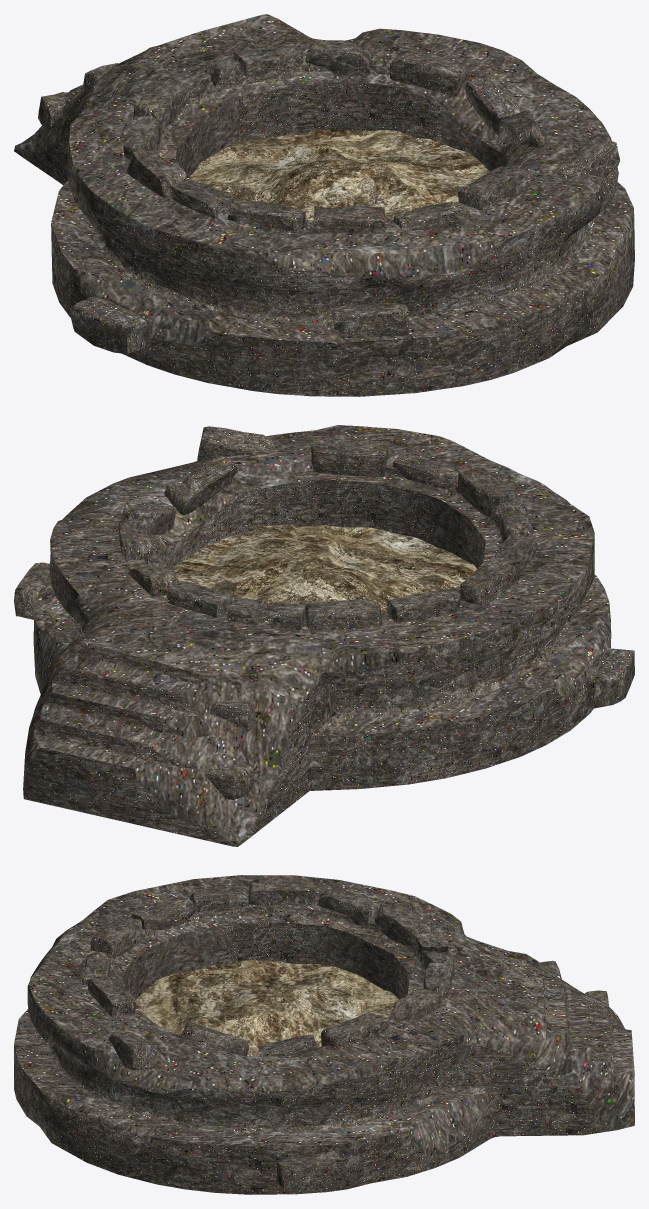
Rendered from o_mdl_env_buildingRuinsFirepitA-transformed.glb.
The picture shows the model from 3 angles, top to bottom: view 1: azimuth 30°, elevation 25°; view 2: azimuth 150°, elevation 25°; view 3: azimuth 270°, elevation 25°; orthographic projection. The views are drawn at different scales.
Parts seen in each view (by area): view 1: default; view 2: default; view 3: default.
Boxes of the visible parts, x1,y1,x2,y2 form: default: (14,14,634,396); default: (14,425,634,846); default: (14,875,634,1194).
Bounding box in the file's own units: 3.81 × 0.938 × 4.12.
2 materials, 2 textured.
